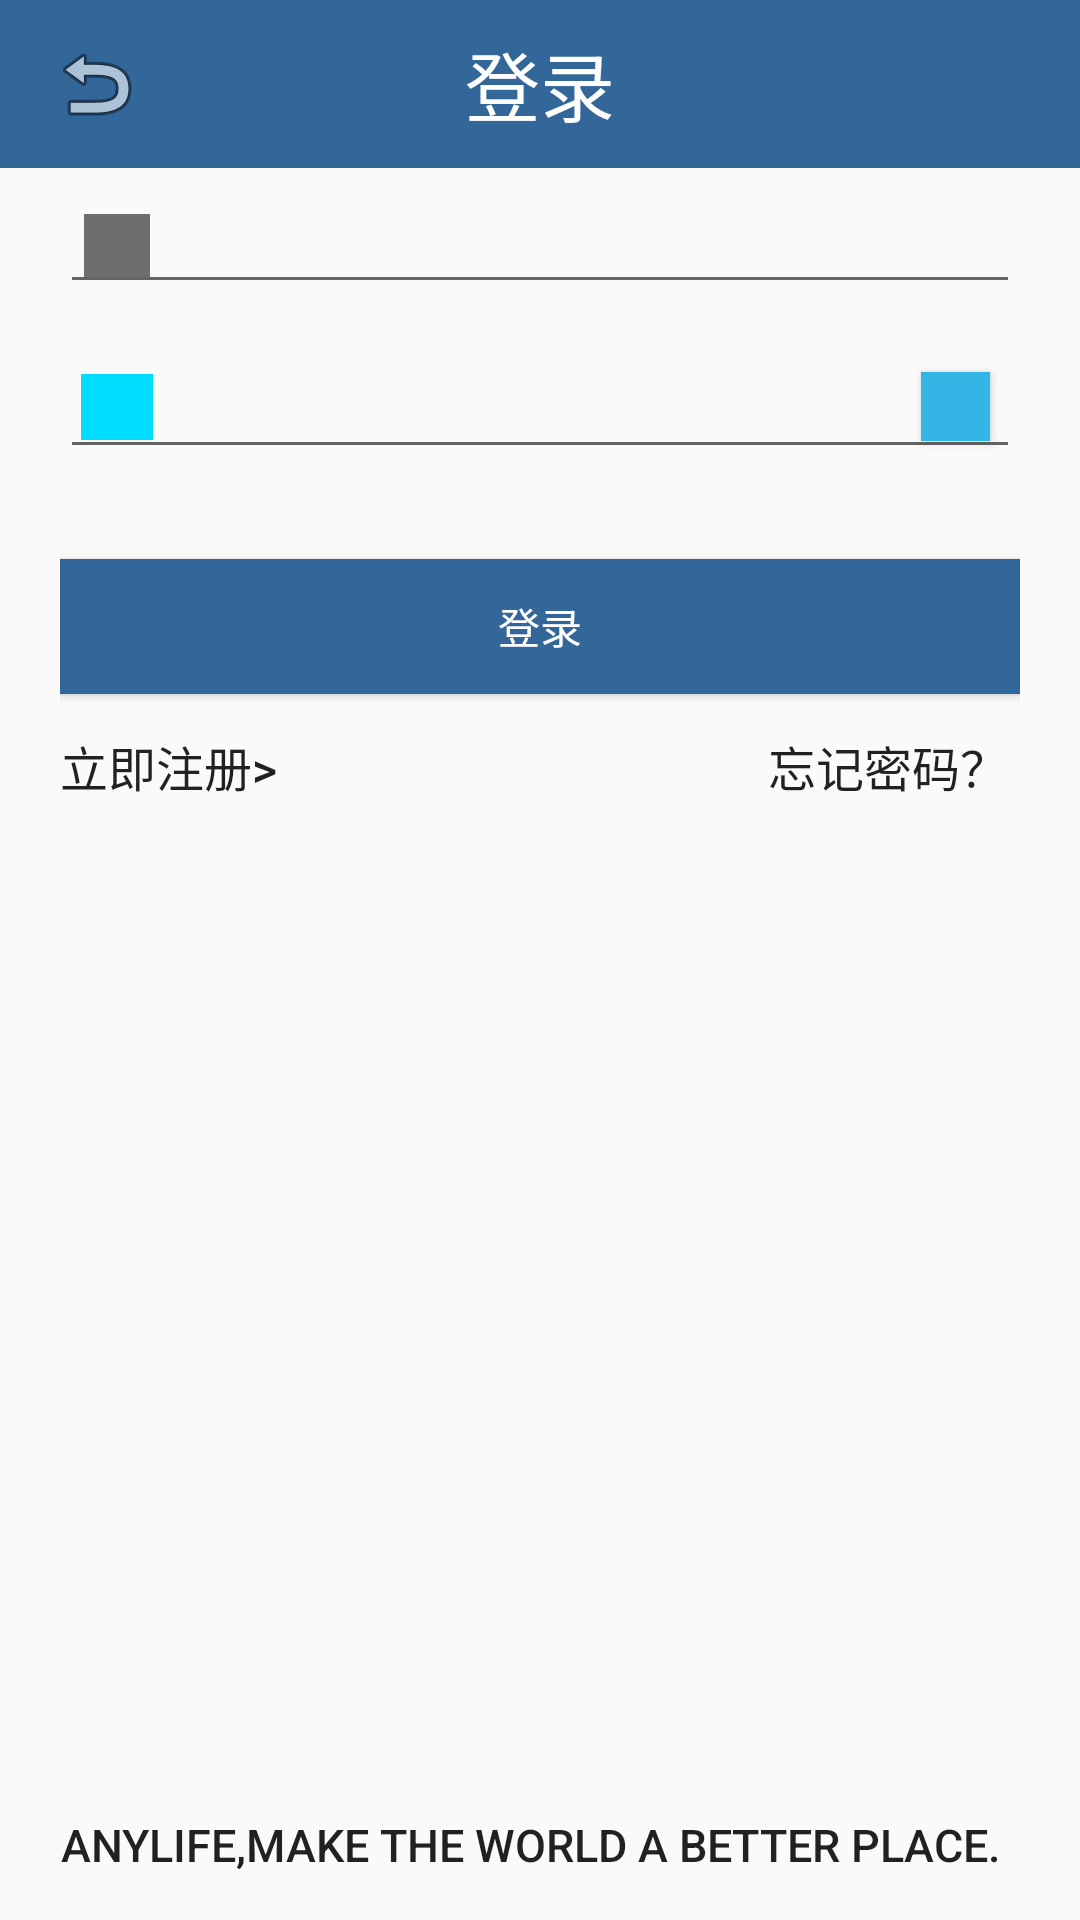

Point at icon controls on the screen. Image size 1080w x 1920h, points as (x=x, y=y).
revert: (x=97, y=85)
